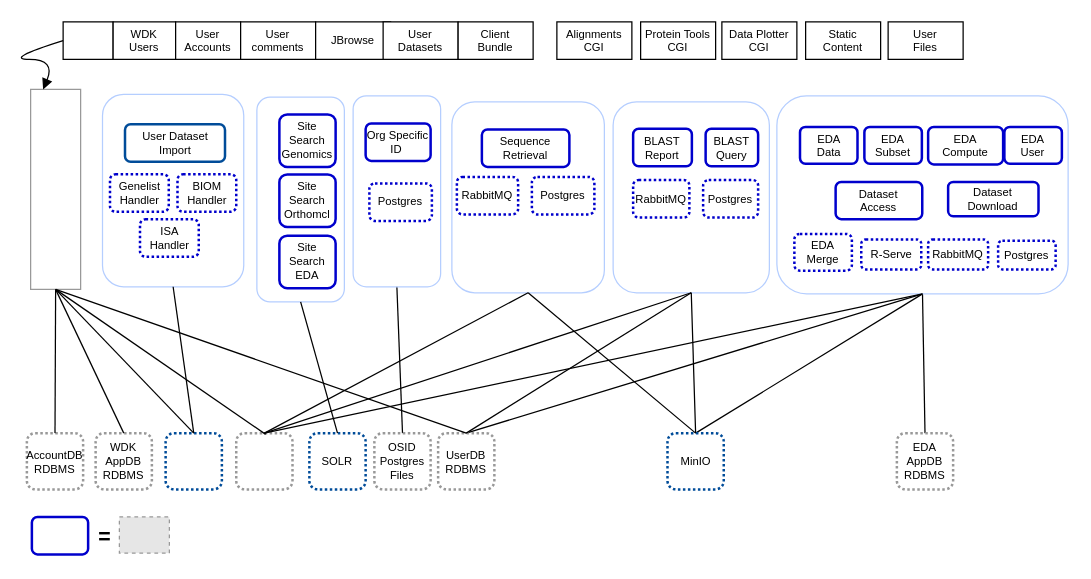
Image size: 1091x579. Some labels were removed from this diagram. Grey dashed boxes stand in for pictures. Here are the shapes that lost their labels. From the top down, the centre of each, then its label:
point 87,40: WDK
point 193,460: iRODS
point 263,460: Web Service Files
